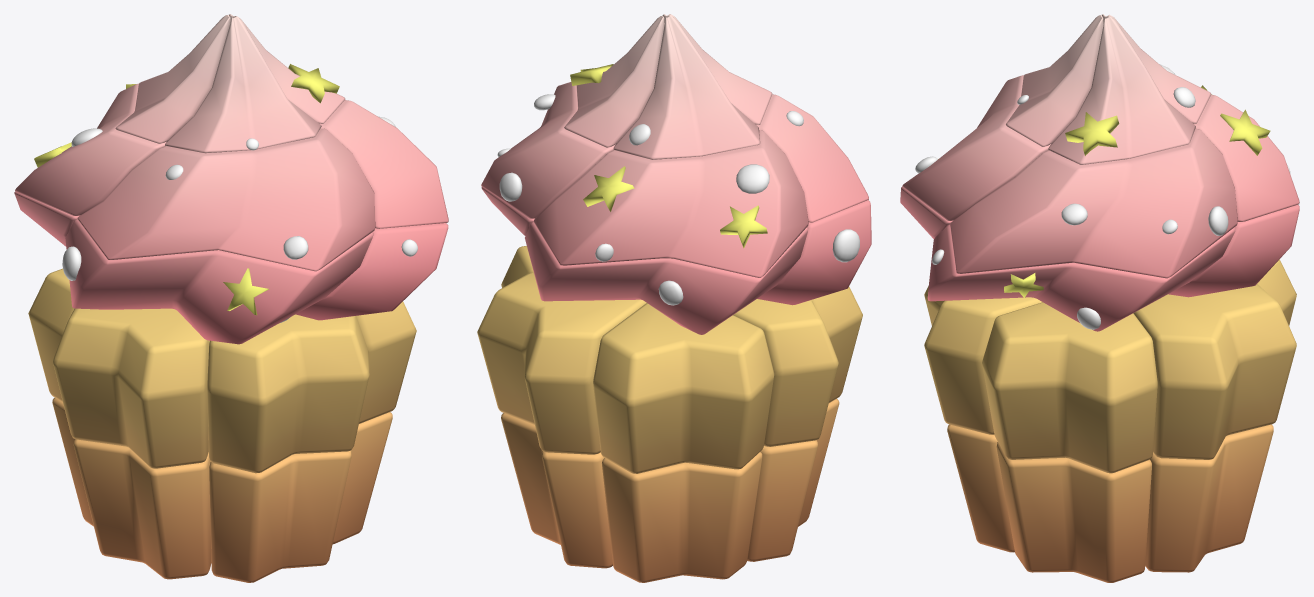
Rendered from Level_P_1.fbx.
3 renders of one model, left to right at view 1: azimuth 30°, elevation 25°; view 2: azimuth 150°, elevation 25°; view 3: azimuth 270°, elevation 25°, orthographic.
Visible parts, largest first — view 1: Cube_16, Cube_9, Cube_6, Cube_19, Cube_4, Cube_10, Cube_17, Cube_3, Cube_2, Cube_14, Cube_18, Cube_5 (+5 smaller); view 2: Cube_2, Cube_7, Cube_8, Cube_13, Cube_15, Cube_6, Cube_18, Cube_12, Cube_3, Cube_10, Cube_1.001, Cube_16 (+4 smaller); view 3: Cube_3, Cube_5, Cube_8, Cube_11, Cube_12, Cube_14, Cube_1.001, Cube_16, Cube_9, Cube_2, Cube_17, Cube_15 (+4 smaller).
Boxes of the visible parts, left/top/right/bottom form: Cube_16: left=77, top=128, right=375, bottom=271; Cube_9: left=207, top=314, right=369, bottom=473; Cube_6: left=52, top=308, right=209, bottom=468; Cube_19: left=62, top=219, right=373, bottom=344; Cube_4: left=209, top=449, right=351, bottom=582; Cube_10: left=73, top=439, right=211, bottom=579; Cube_17: left=165, top=16, right=321, bottom=153; Cube_3: left=320, top=100, right=448, bottom=228; Cube_2: left=15, top=83, right=166, bottom=215; Cube_14: left=296, top=223, right=448, bottom=320; Cube_18: left=115, top=15, right=230, bottom=143; Cube_5: left=356, top=301, right=416, bottom=423; Cube_2: left=534, top=130, right=808, bottom=277; Cube_7: left=593, top=303, right=774, bottom=473; Cube_8: left=477, top=273, right=646, bottom=454; Cube_13: left=602, top=452, right=762, bottom=582; Cube_15: left=525, top=221, right=807, bottom=334; Cube_6: left=733, top=286, right=862, bottom=446; Cube_18: left=613, top=15, right=760, bottom=159; Cube_12: left=501, top=413, right=612, bottom=568; Cube_3: left=481, top=82, right=615, bottom=218; Cube_10: left=747, top=398, right=839, bottom=561; Cube_1.001: left=564, top=16, right=664, bottom=147; Cube_16: left=756, top=94, right=868, bottom=222; Cube_3: left=950, top=128, right=1237, bottom=278; Cube_5: left=982, top=302, right=1157, bottom=473; Cube_8: left=1133, top=284, right=1296, bottom=459; Cube_11: left=996, top=442, right=1151, bottom=582; Cube_12: left=1145, top=424, right=1273, bottom=572; Cube_14: left=927, top=224, right=1235, bottom=331; Cube_1.001: left=1048, top=16, right=1195, bottom=164; Cube_16: left=902, top=75, right=1050, bottom=220; Cube_9: left=924, top=286, right=1042, bottom=434; Cube_2: left=1160, top=64, right=1299, bottom=221; Cube_17: left=1006, top=15, right=1103, bottom=146; Cube_15: left=1168, top=204, right=1299, bottom=297.
Size of the model in its own units: 2.53 by 3.63 by 2.56.
